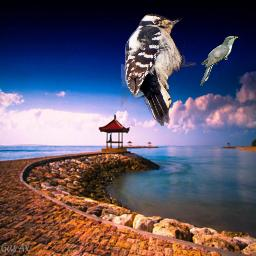Cuckoo: (200, 36, 238, 86)
Woodpecker: (121, 12, 197, 126)
